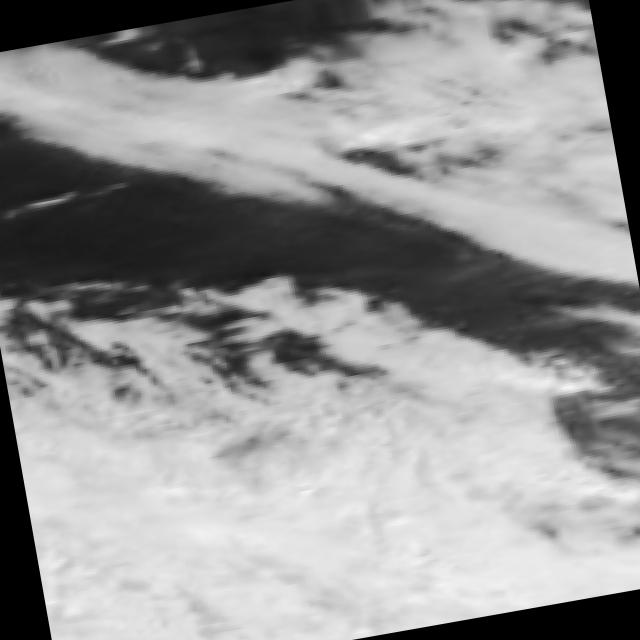CB: (322, 461, 613, 640), (217, 426, 447, 640), (26, 463, 247, 640), (13, 392, 204, 570), (392, 371, 554, 506)
